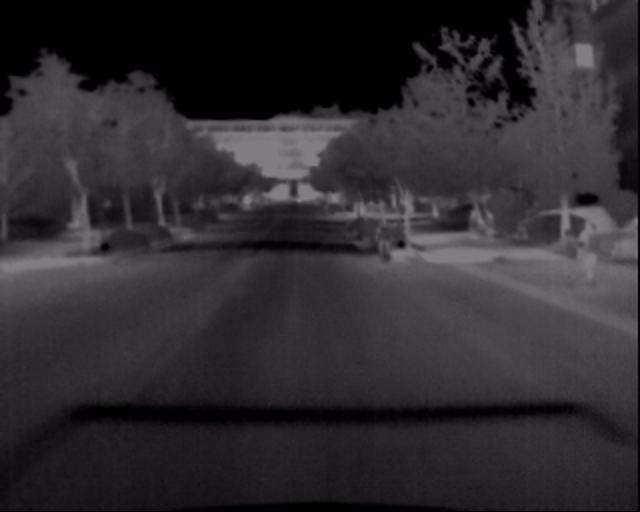person: (558, 224, 588, 292), (589, 219, 609, 296), (375, 219, 396, 264), (462, 205, 482, 246)
